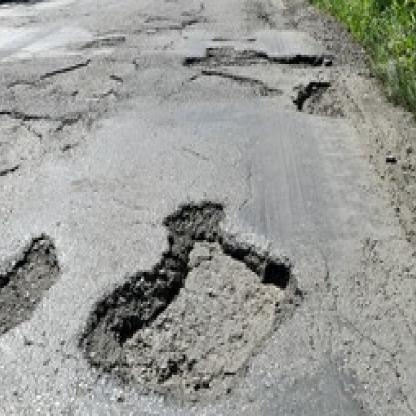pothole: (76, 201, 306, 405), (0, 217, 63, 389), (184, 48, 327, 69), (295, 78, 354, 119)
